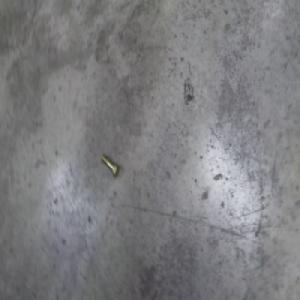Bolt: (100, 152, 120, 178)
